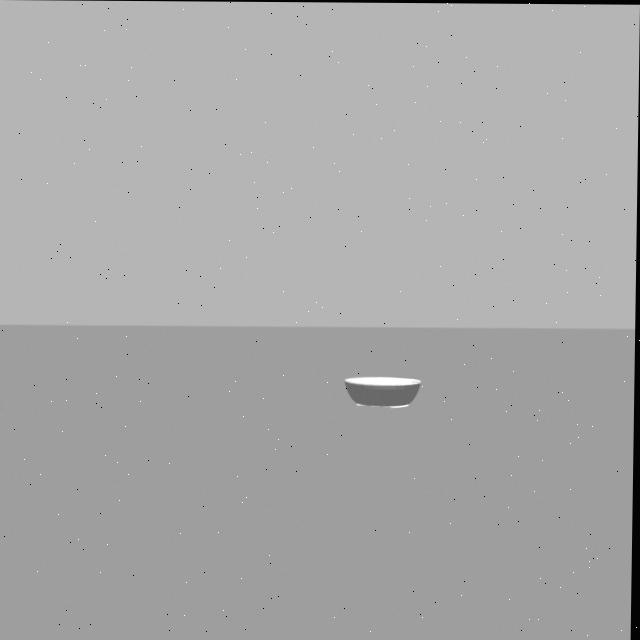bowl: (327, 348, 452, 426)
